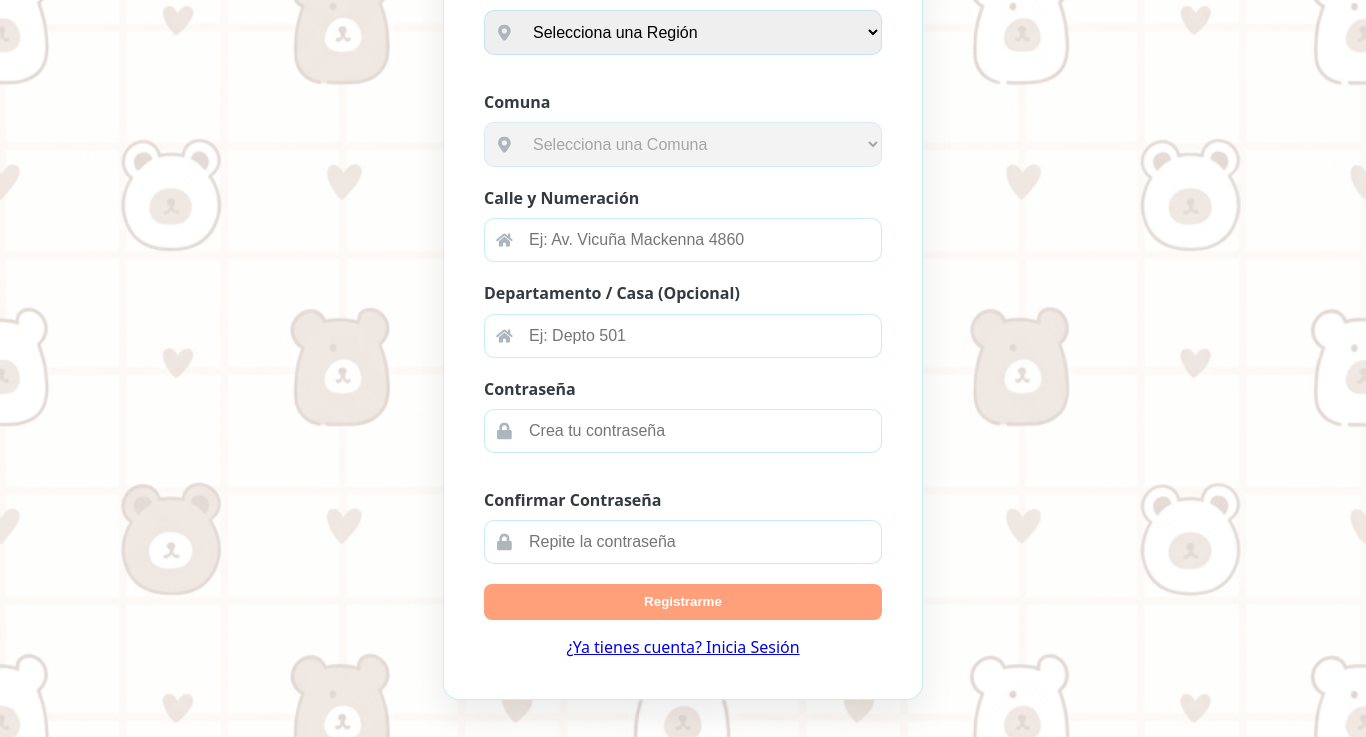
Componente: RegisterForm › debería mostrar errores de validación al enviar el formulario vacío
The image size is (1366, 737).
(page scrolled)
Step 1. Click the button "Registrarme" → point(683, 602), box [484,584,882,620]
(page scrolled)
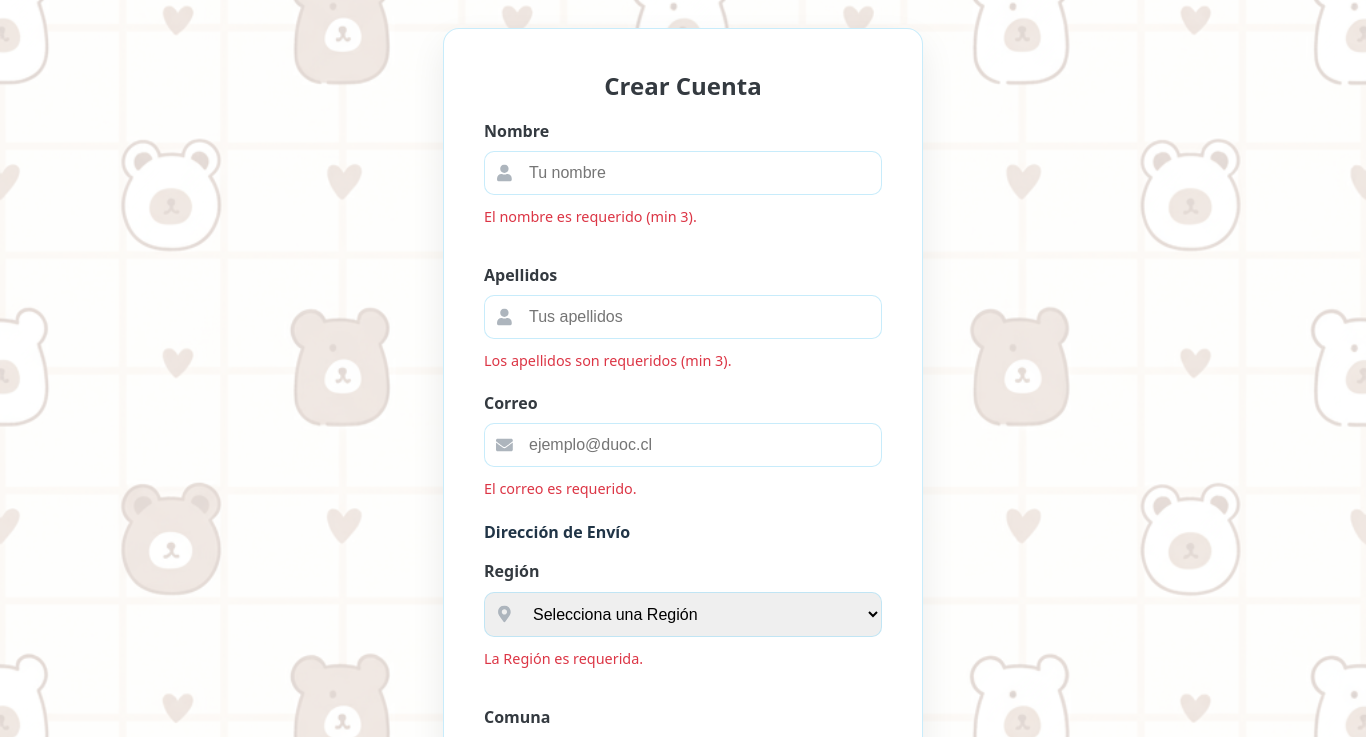
Check: the text "El nombre es requerido (min 3)." is shown, box [484,207,697,226]
